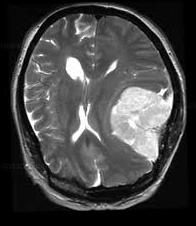Tumour-Meningioma: (109, 78, 178, 166)
